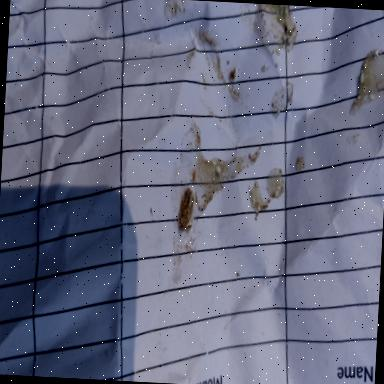pbw: (176, 186, 196, 234)
